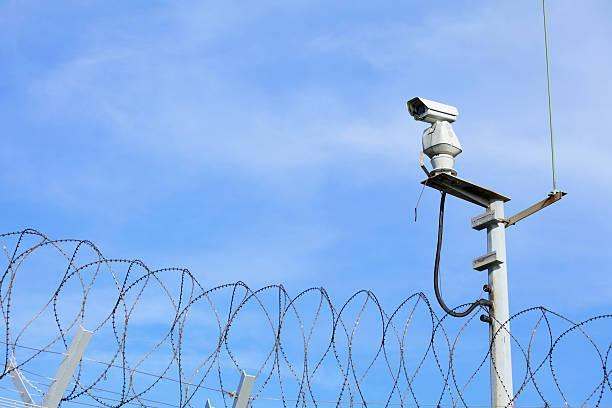camera: (395, 80, 464, 140)
